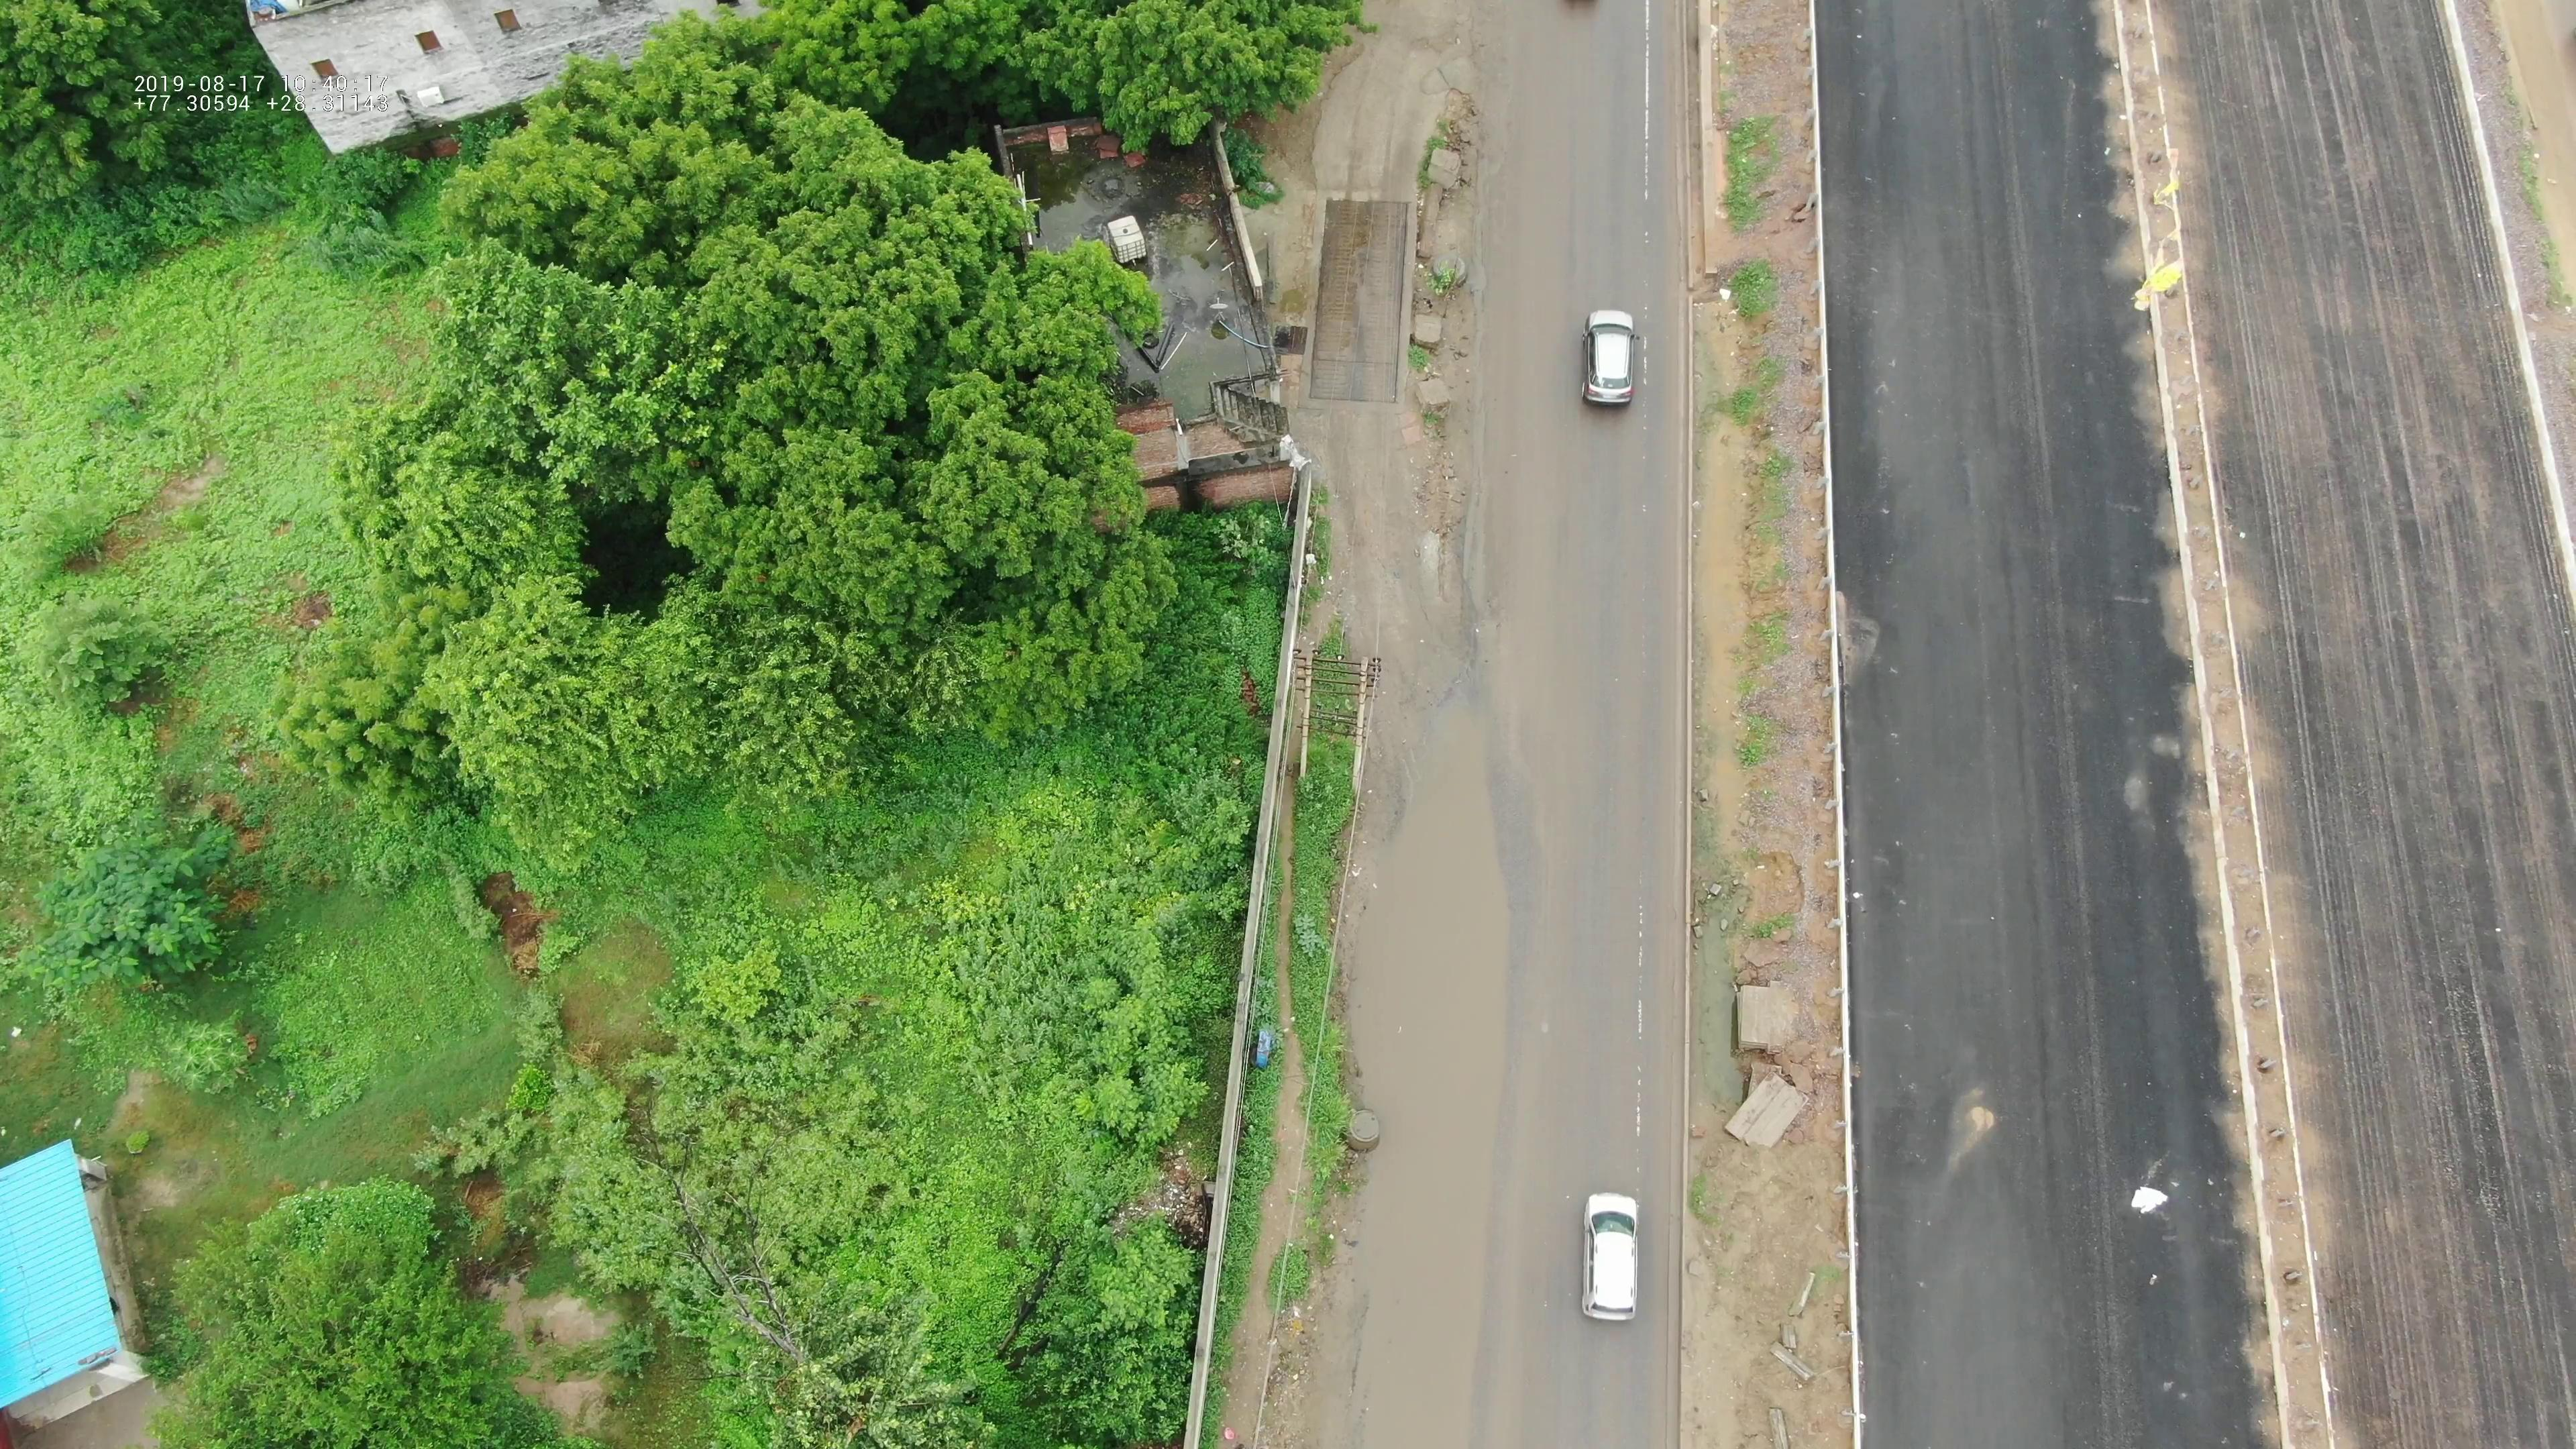Waterlogging: (1332, 663, 1537, 1445)
